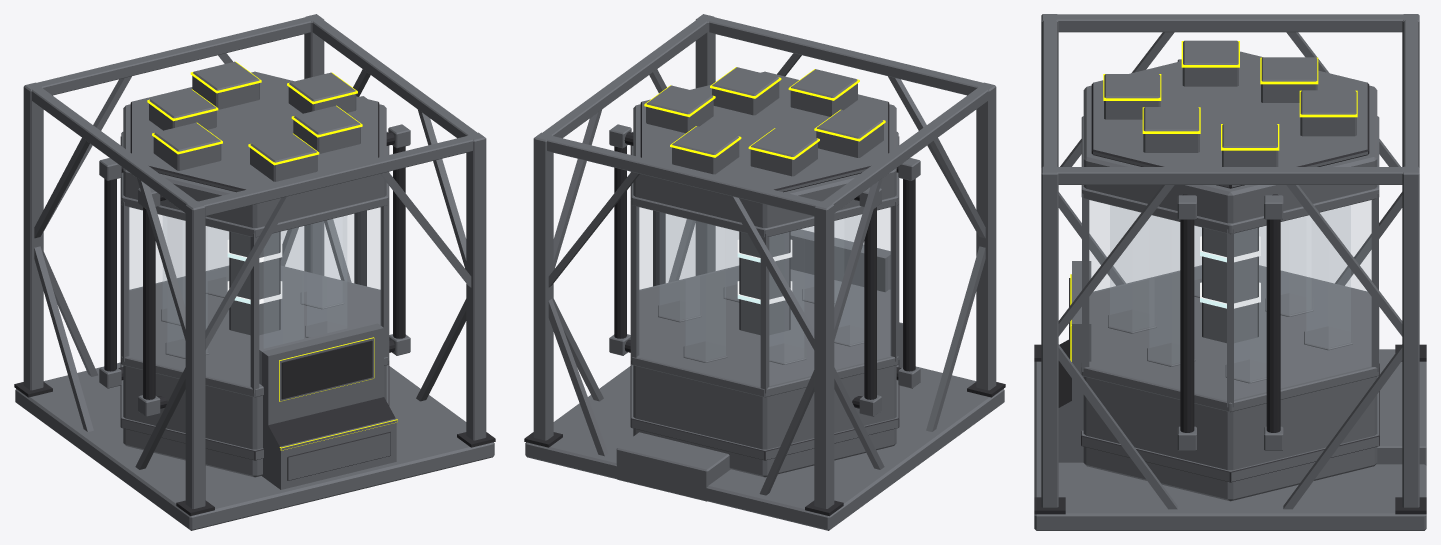
The model's file is Reactor.fbx.
The picture shows the model from 3 angles, left to right: view 1: azimuth 30°, elevation 25°; view 2: azimuth 150°, elevation 25°; view 3: azimuth 270°, elevation 25°; orthographic projection. The views are drawn at different scales.
Parts seen in each view (by area): view 1: Frame, Vessel, Control Bay, Chambers; view 2: Vessel, Frame, Chambers, Control Bay; view 3: Vessel, Frame, Chambers, Control Bay.
Part boxes in pixels (box(x1,y1,x2,y2)): Frame: box(14, 14, 495, 530); Vessel: box(99, 61, 410, 477); Control Bay: box(259, 321, 397, 489); Chambers: box(161, 216, 348, 358); Vessel: box(609, 67, 920, 501); Frame: box(524, 14, 1005, 530); Chambers: box(658, 213, 864, 364); Control Bay: box(790, 229, 902, 367); Vessel: box(1081, 40, 1426, 501); Frame: box(1034, 14, 1426, 530); Chambers: box(1108, 205, 1352, 383); Control Bay: box(1058, 261, 1091, 462).
Size of the model in its own units: 5 by 5 by 5.
